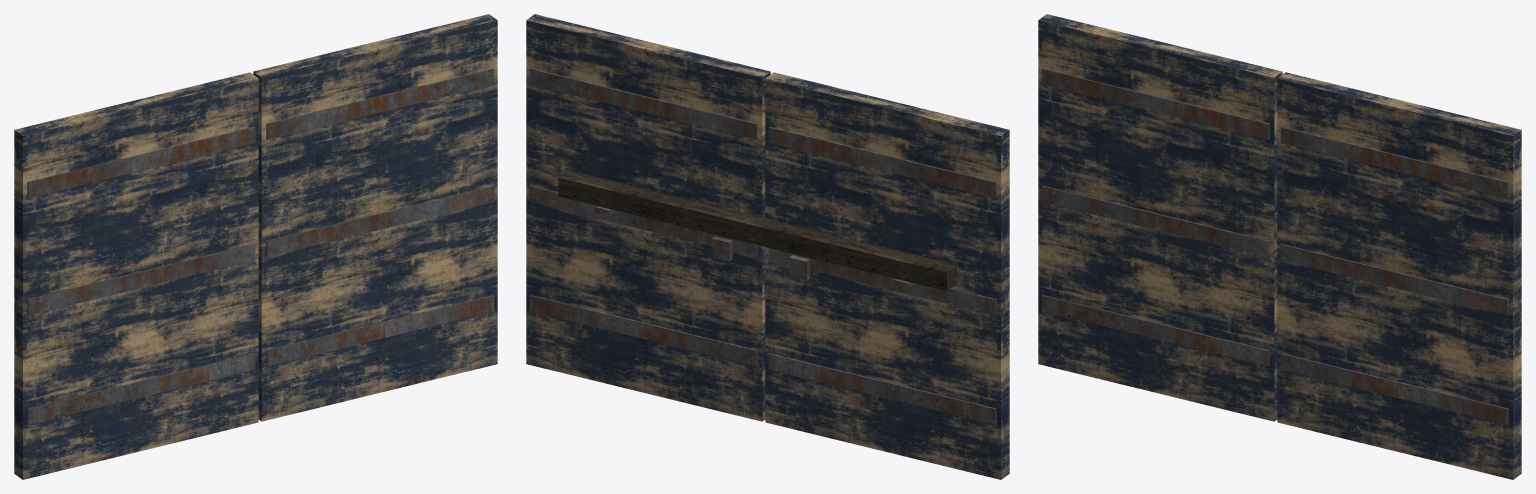
The model's file is door-double.a9f9a35a.glb.
3 views of the same model, side by side, from view 1: azimuth 30°, elevation 25°; view 2: azimuth 150°, elevation 25°; view 3: azimuth 330°, elevation 25° (orthographic).
Visible parts, largest first — view 1: door-leaf-l, door-leaf-r; view 2: door-leaf-l, door-leaf-r, door-bar; view 3: door-leaf-r, door-leaf-l.
Boxes of the visible parts, box(x1,y1,x2,y2) form: door-leaf-l: box(14, 72, 258, 479); door-leaf-r: box(253, 14, 497, 421); door-leaf-l: box(765, 72, 1009, 479); door-leaf-r: box(526, 14, 770, 421); door-bar: box(558, 170, 957, 291); door-leaf-r: box(1277, 72, 1521, 479); door-leaf-l: box(1038, 14, 1282, 421).
Size of the model in its own units: 3.18 by 2.2 by 0.257.
Materials: 3 (3 with a texture image).
